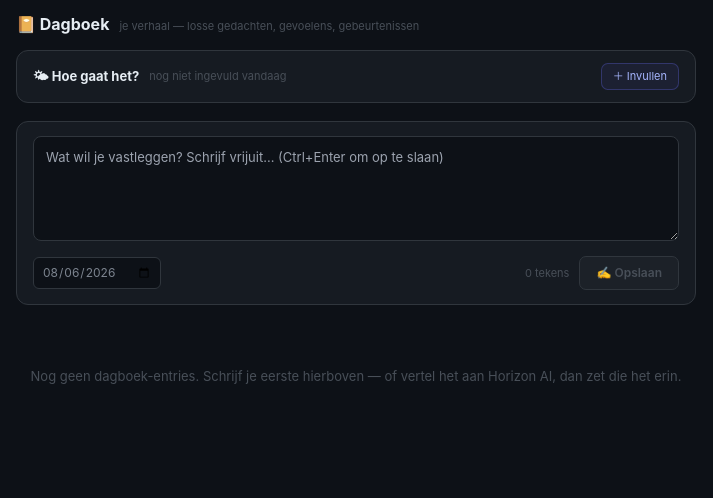
Test: DiaryTab — AI-inschatting van de stemming › vraagt een suggestie na het opslaan als er nog geen stemming voor die dag is
Replace the text in the text box with placeholder "Wat wil je vastleggen" with "Zware dag gehad." at (356, 188), box [33,136,679,241]
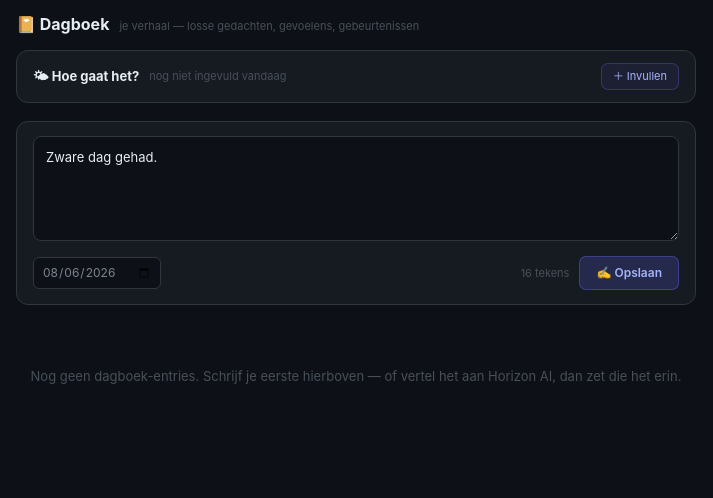
Click the button "✍️ Opslaan" at (629, 273), box [579,256,679,290]
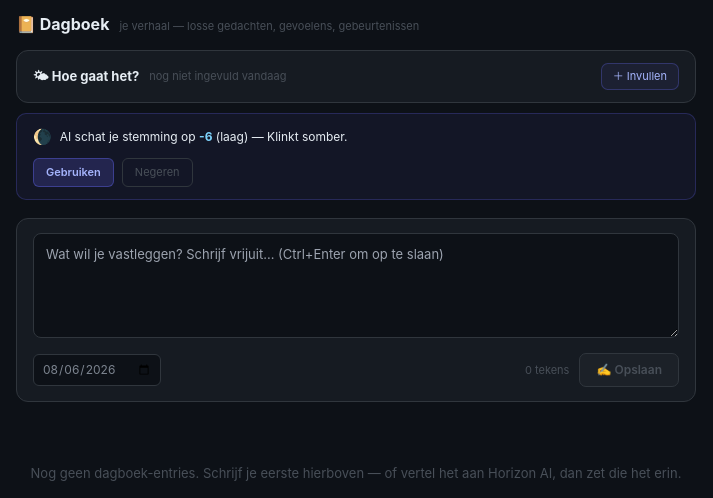
Check: the text "-6" is shown, box [199,129,212,144]
Check: the text "AI schat je stemming op -6 (laag) — Klinkt somber." is shown, box [60,128,348,146]
